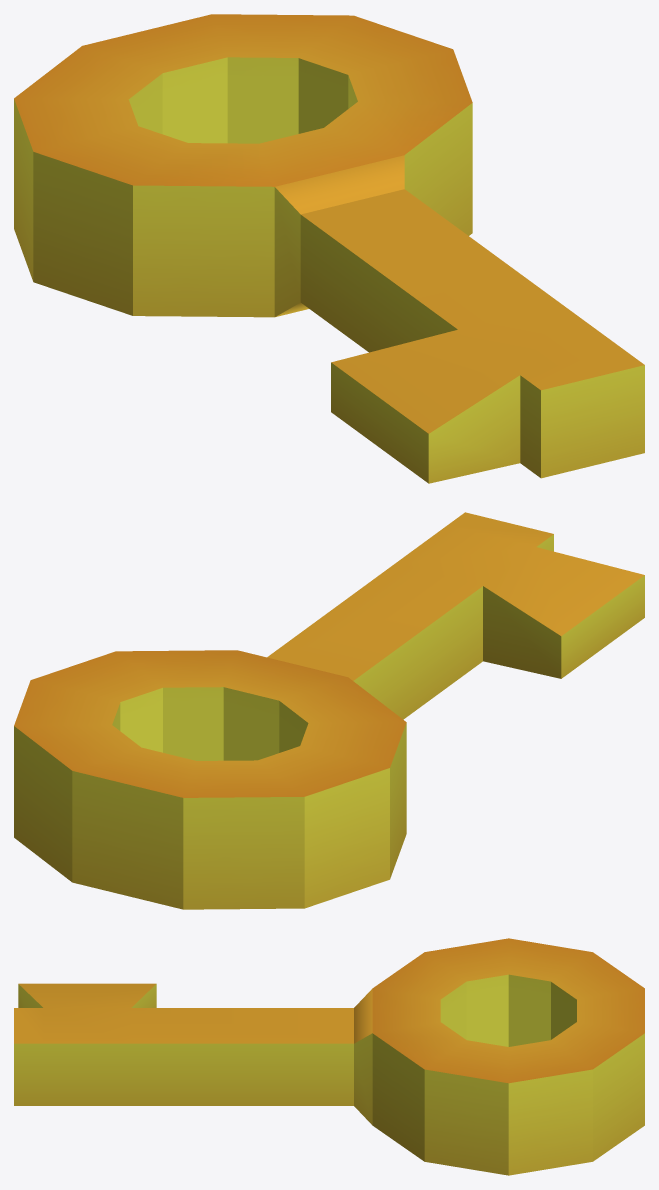
File: basicKey.fbx
The picture shows the model from 3 angles, top to bottom: view 1: azimuth 30°, elevation 25°; view 2: azimuth 150°, elevation 25°; view 3: azimuth 270°, elevation 25°; orthographic projection. The views are drawn at different scales.
Parts seen in each view (by area): view 1: pPipe1; view 2: pPipe1; view 3: pPipe1.
Part boxes in pixels (x1,y1,x2,y2): pPipe1: (14, 14, 644, 483); pPipe1: (14, 512, 644, 909); pPipe1: (14, 938, 644, 1175).
Bounding box in the file's own units: 2.5 × 0.7414 × 4.59.
